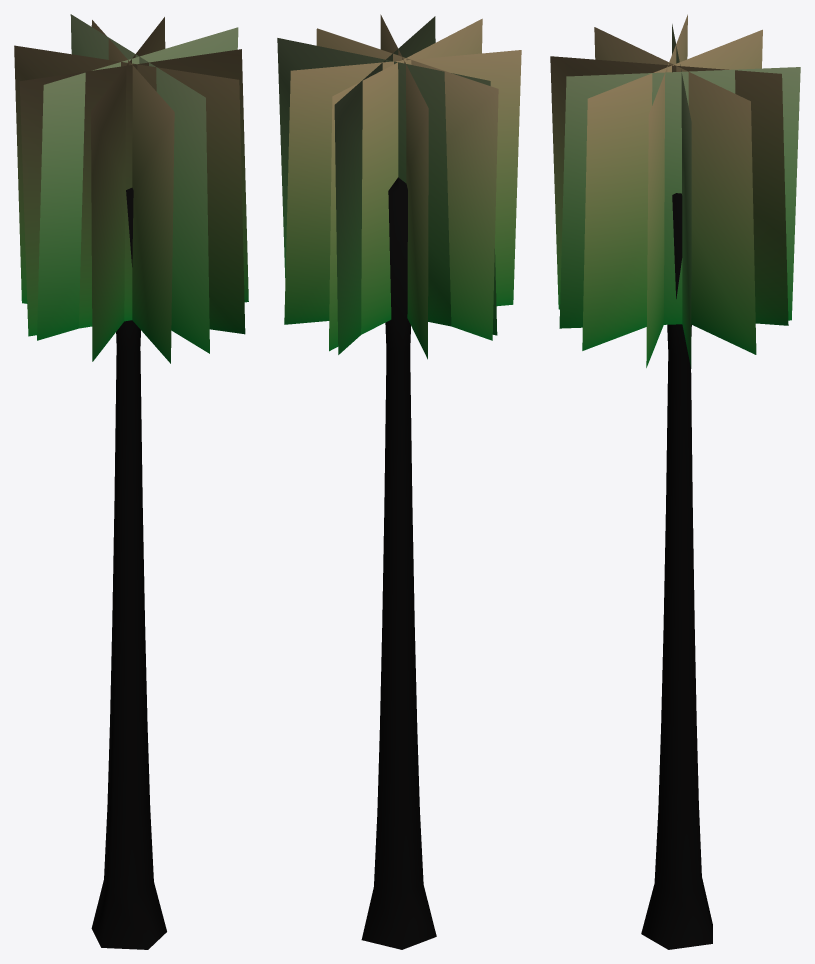
File: Super_Palm_15.fbx
The picture shows the model from 3 angles, left to right: view 1: azimuth 30°, elevation 25°; view 2: azimuth 150°, elevation 25°; view 3: azimuth 270°, elevation 25°; orthographic projection.
Parts seen in each view (by area): view 1: Tree_15; view 2: Tree_15; view 3: Tree_15.
Boxes of the visible parts, box(x1,y1,x2,y2) form: Tree_15: box(14, 14, 248, 949); Tree_15: box(277, 14, 521, 949); Tree_15: box(550, 14, 800, 949).
Size of what is drawn, in the model's own units: 538 by 2042 by 533.
